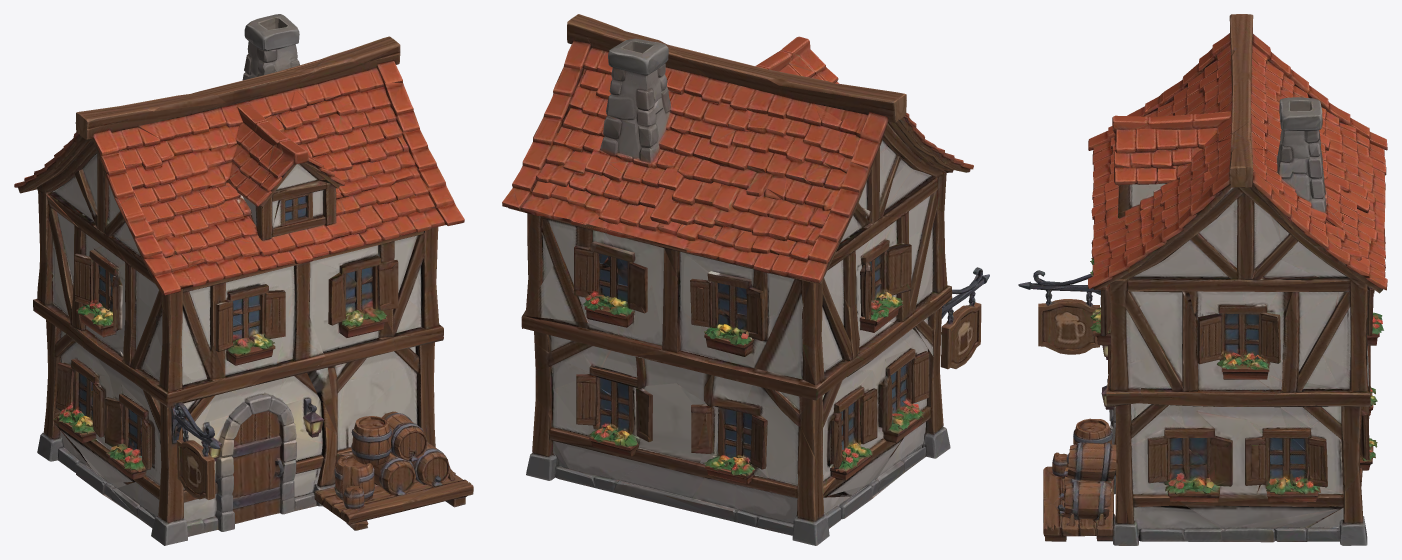
Rendered from bld_tavern.glb.
3 views of the same model, side by side, from view 1: azimuth 30°, elevation 25°; view 2: azimuth 150°, elevation 25°; view 3: azimuth 270°, elevation 25° (orthographic). The views are drawn at different scales.
Parts seen in each view (by area): view 1: output_unwrapped; view 2: output_unwrapped; view 3: output_unwrapped.
Part boxes in pixels (<box>): output_unwrapped: <box>14,14,473,545</box>; output_unwrapped: <box>502,14,989,545</box>; output_unwrapped: <box>1018,14,1387,545</box>.
Size of the model in its own units: 1.55 by 1.9 by 1.57.
1 material, 1 textured.
